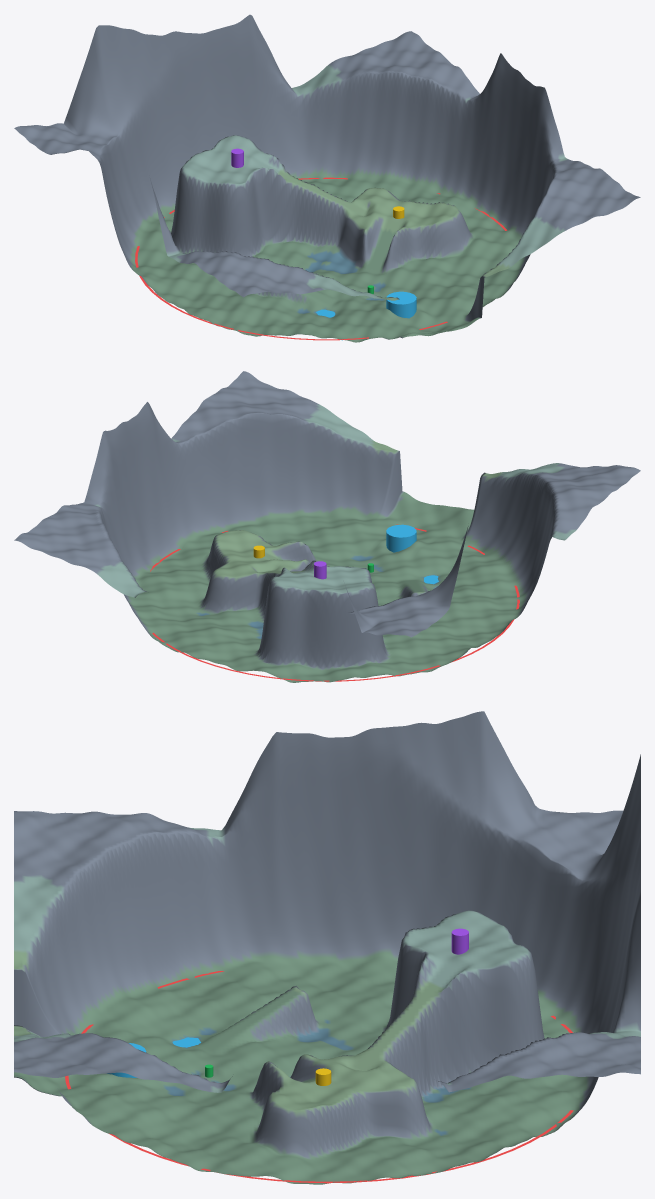
File: stage1_map.glb
3 renders of one model, top to bottom at view 1: azimuth 30°, elevation 25°; view 2: azimuth 150°, elevation 25°; view 3: azimuth 270°, elevation 25°, orthographic. The views are drawn at different scales.
Visible parts, largest first — view 1: Playable_Terrain, Guide_CraterRim_r1500, Marker_CrashedShip_Hull; view 2: Playable_Terrain, Guide_CraterRim_r1500, Marker_CrashedShip_Hull; view 3: Playable_Terrain, Guide_CraterRim_r1500.
Boxes of the visible parts, left/top/right/bottom form: Playable_Terrain: left=14, top=14, right=640, bottom=342; Guide_CraterRim_r1500: left=135, top=177, right=507, bottom=340; Marker_CrashedShip_Hull: left=386, top=291, right=416, bottom=318; Playable_Terrain: left=14, top=371, right=640, bottom=682; Guide_CraterRim_r1500: left=150, top=524, right=519, bottom=681; Marker_CrashedShip_Hull: left=386, top=524, right=416, bottom=552; Playable_Terrain: left=14, top=711, right=640, bottom=1184; Guide_CraterRim_r1500: left=65, top=971, right=573, bottom=1183.
Size of the model in its own units: 3600 by 1595 by 3600.
